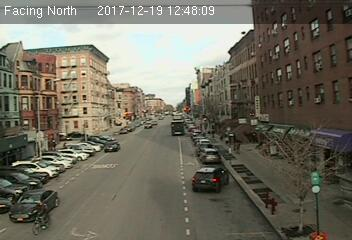bicycle: (31, 199, 52, 235)
car: (10, 188, 60, 224), (191, 166, 231, 192), (199, 147, 220, 163), (104, 140, 119, 152)
ups: (171, 121, 184, 135)
